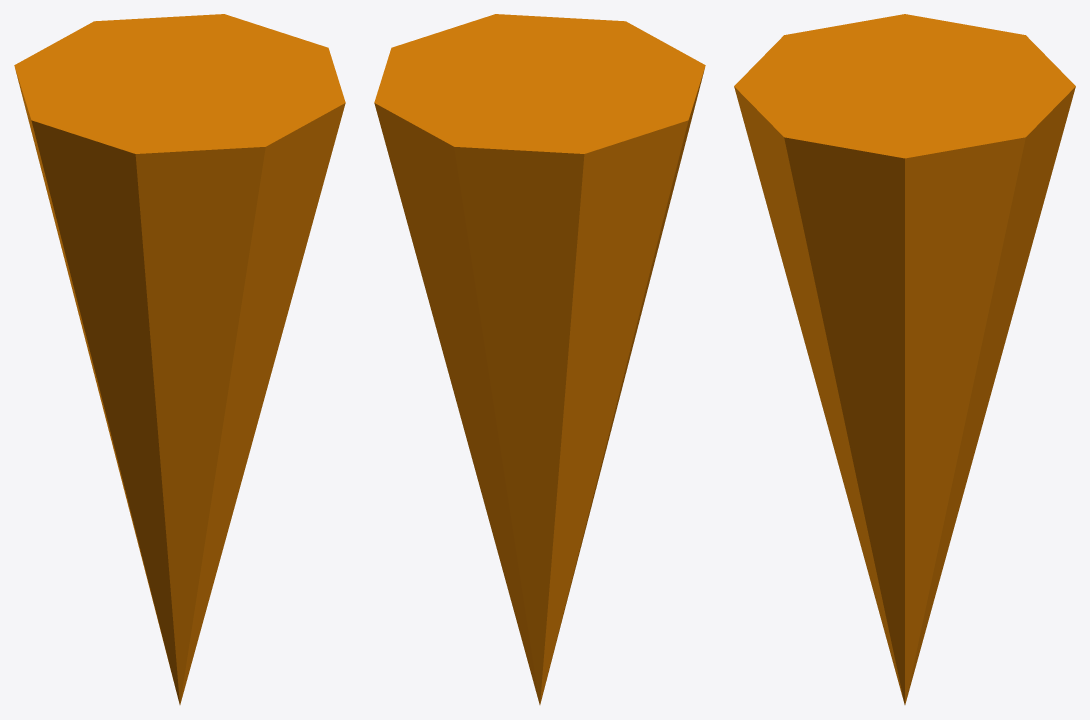
File: inverted_cone.gltf
3 views of the same model, side by side, from view 1: azimuth 30°, elevation 25°; view 2: azimuth 150°, elevation 25°; view 3: azimuth 270°, elevation 25° (orthographic).
Visible parts, largest first — view 1: Cone; view 2: Cone; view 3: Cone.
Boxes of the visible parts, box(x1,y1,x2,y2) form: Cone: box(14, 14, 345, 704); Cone: box(374, 14, 705, 704); Cone: box(734, 14, 1075, 704).
Size of the model in its own units: 0.5 by 1 by 0.5.
